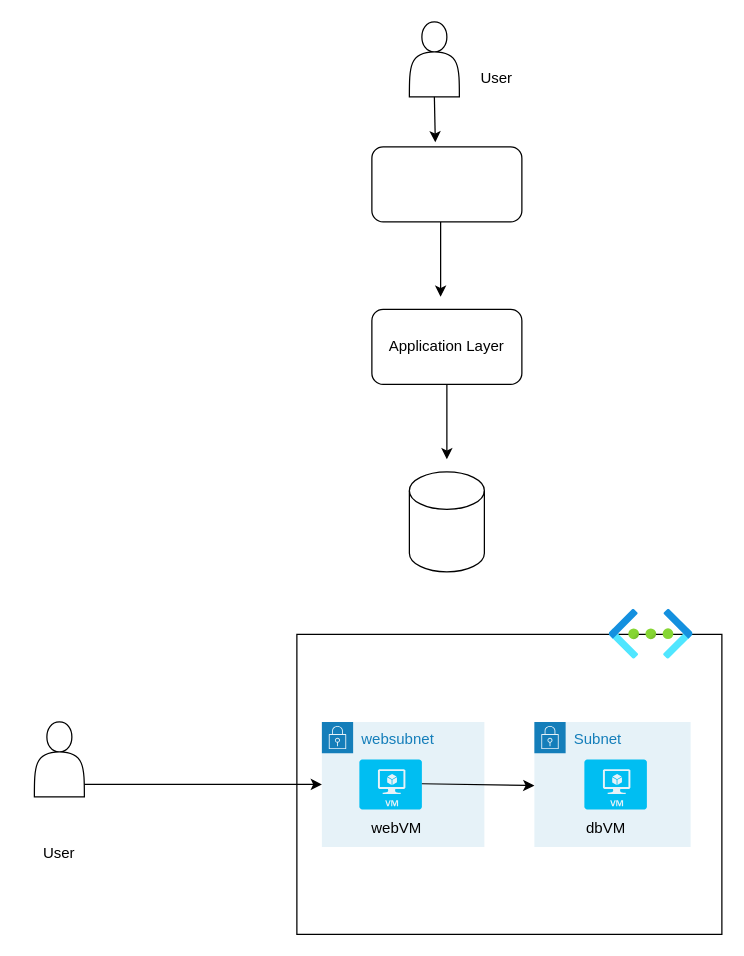
Image size: 744x956. Some labels were removed from this diagram. Each missing label, with the centre of its shape:
DB Layer: (x=446, y=521)
Presentation Layer: (x=446, y=184)
